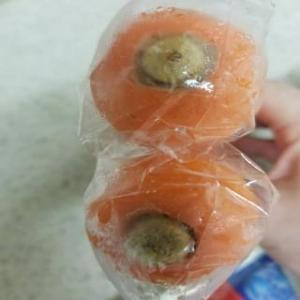carrot: (84, 150, 256, 286), (90, 9, 260, 140)
